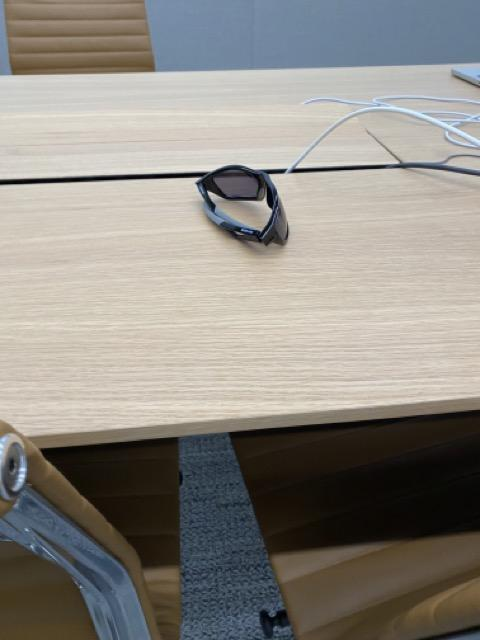Sunglasses: (197, 161, 291, 249)
